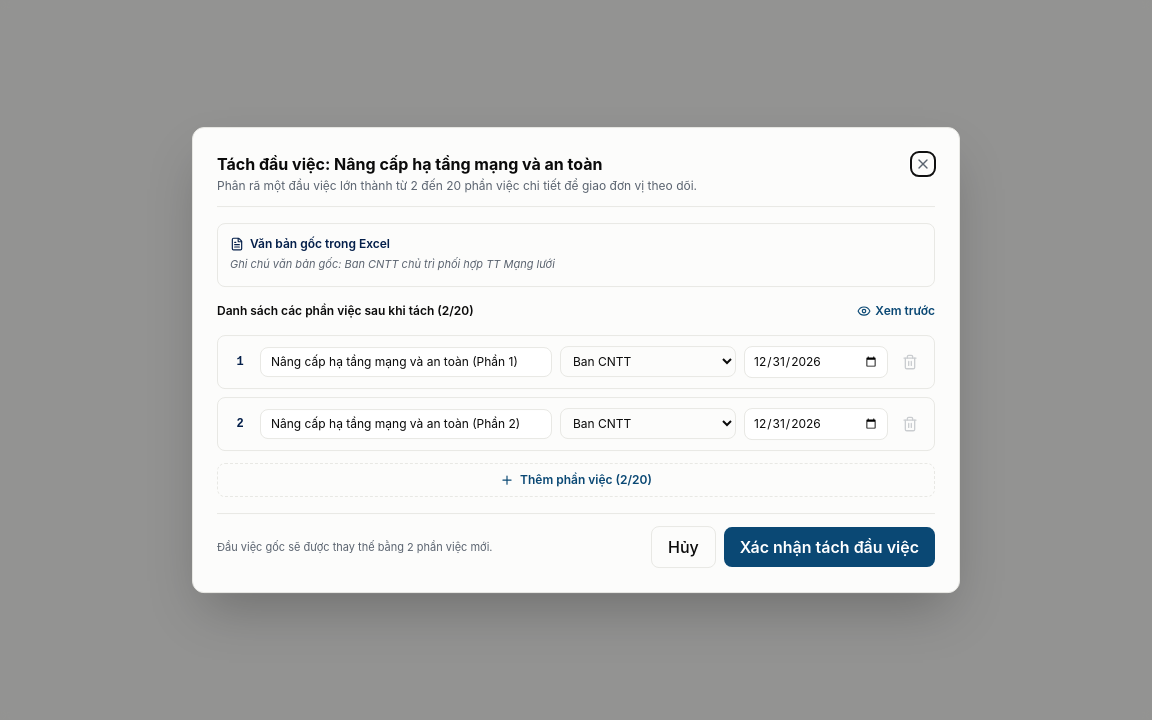
Test case: Plan 4A W3 Task Dialogs › TaskSplitDialog › allows adding parts up to 20 and toggles preview table
Click the button with test id "add-part-button" at coordinates (576, 480), box [217, 463, 935, 497]
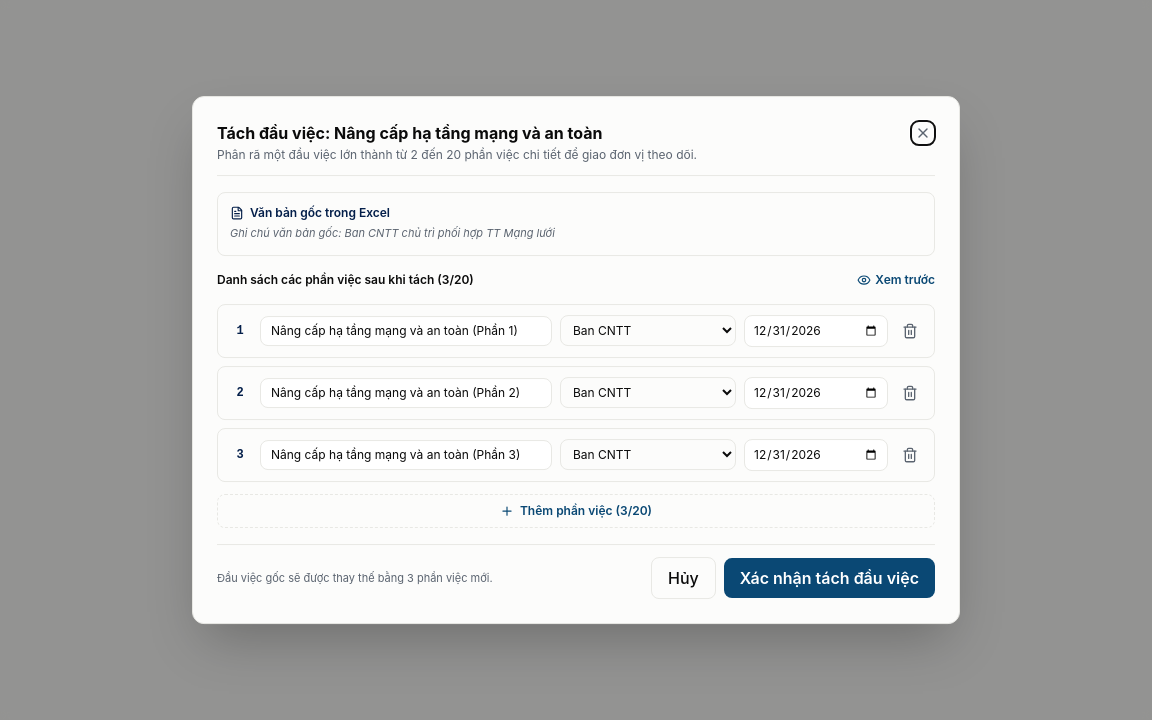
expect the text "Danh sách các phần việc sau khi tách (3/20)" is shown: met, box [217, 272, 474, 288]
expect the 3rd field showing "Phần 3" is shown: met, box [260, 440, 552, 470]
# Test preview toggle
Click the button with test id "toggle-preview-button" at coordinates (896, 280), box [857, 272, 935, 288]
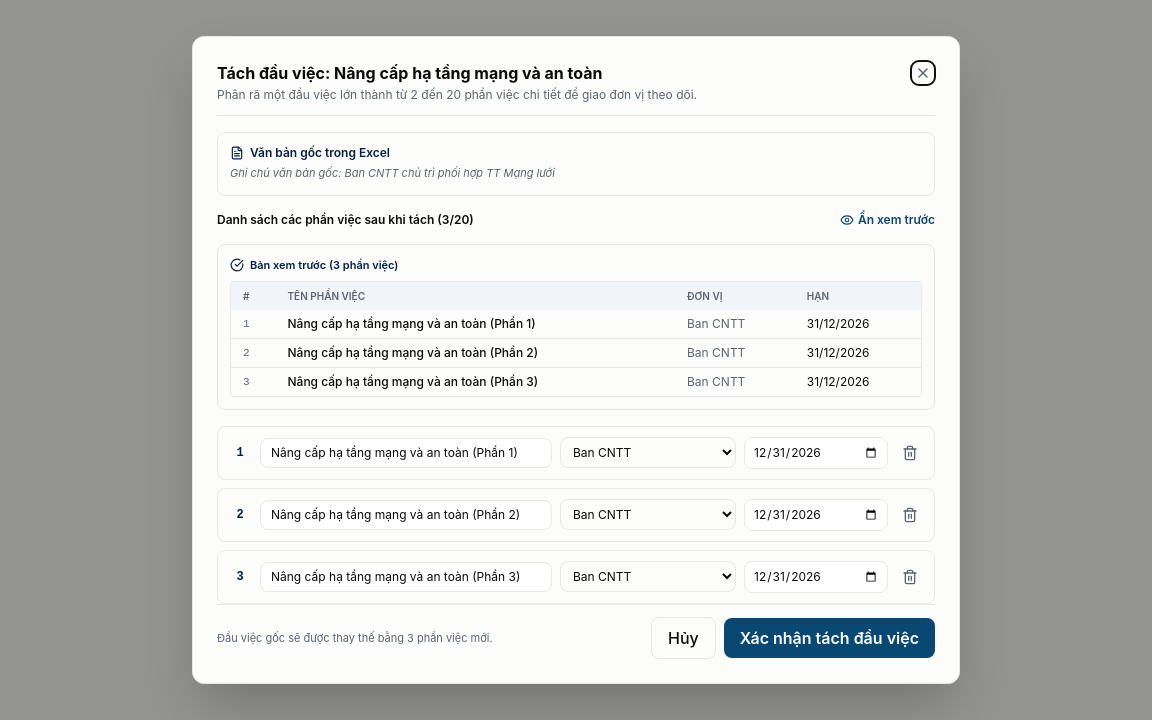
expect the text "Bản xem trước (3 phần việc)" is shown: met, box [250, 257, 398, 273]
